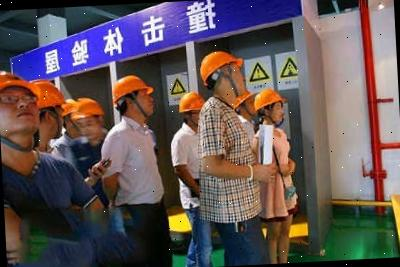helmet: (198, 50, 244, 82), (0, 66, 36, 101), (112, 74, 154, 101), (28, 78, 62, 111), (68, 96, 104, 126), (251, 87, 288, 115), (175, 90, 207, 118)
no_wear: (198, 109, 252, 218), (106, 122, 160, 207), (254, 129, 294, 218), (170, 127, 202, 208)
